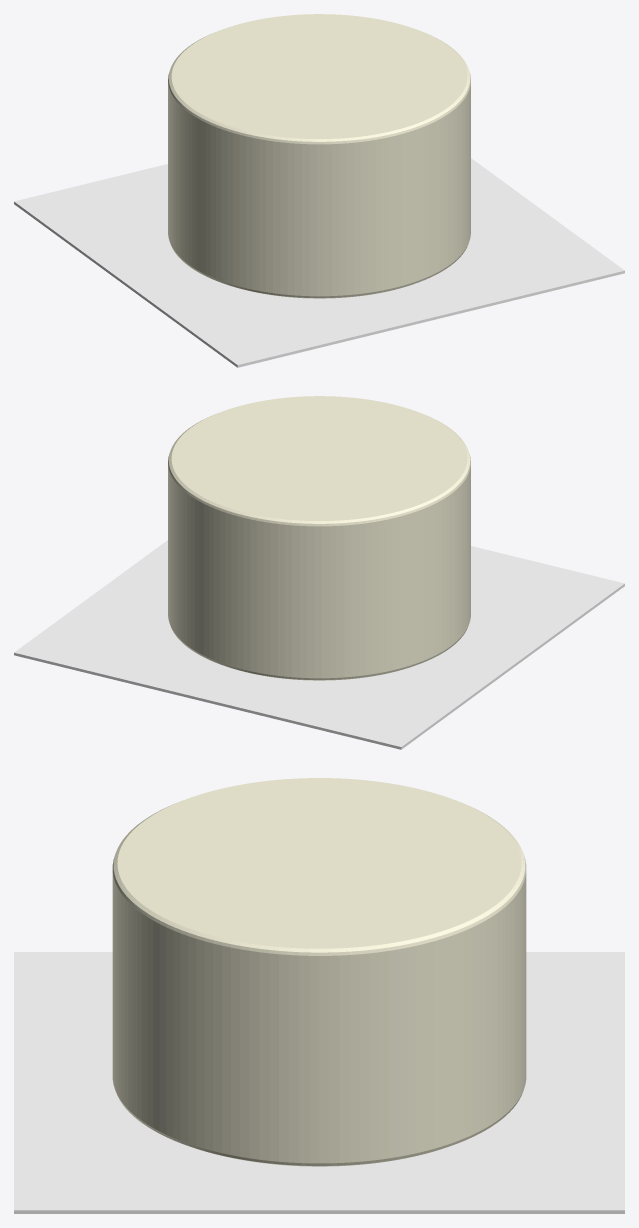
Rendered from cake_4in_layers2_v26.glb.
3 renders of one model, top to bottom at view 1: azimuth 30°, elevation 25°; view 2: azimuth 150°, elevation 25°; view 3: azimuth 270°, elevation 25°, orthographic. The views are drawn at different scales.
Visible parts, largest first — view 1: Cake, Board; view 2: Cake, Board; view 3: Cake, Board.
Boxes of the visible parts, box(x1,y1,x2,y2) form: Cake: box(168, 14, 470, 298); Board: box(14, 158, 624, 367); Cake: box(168, 396, 470, 680); Board: box(14, 540, 624, 749); Cake: box(112, 778, 526, 1166); Board: box(14, 952, 624, 1213).
Bounding box in the file's own units: 0.15 × 0.06 × 0.15.
